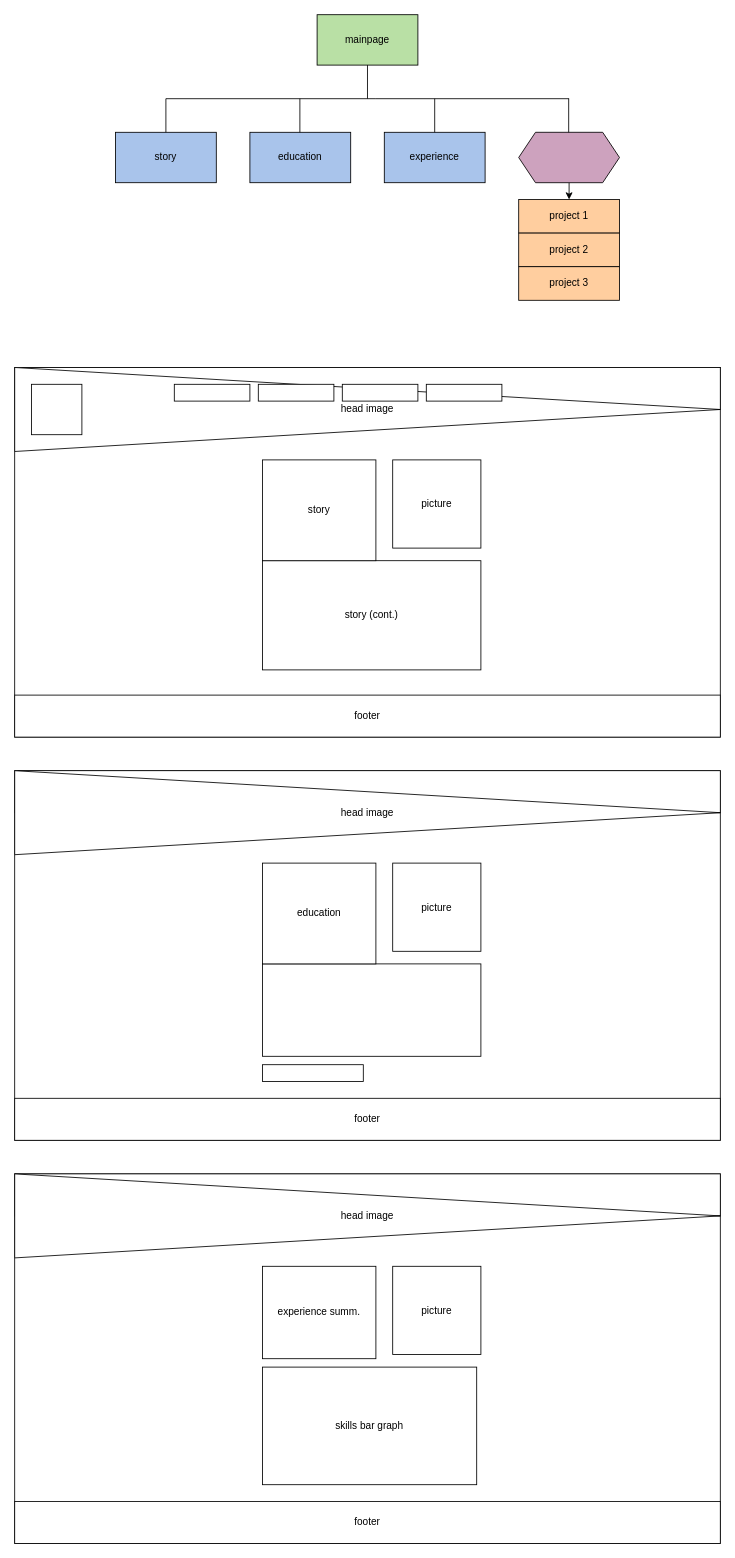
Image size: 735x1558. Some labels were removed from this diagram. The shapes that lost their labels are listed below. From the top down, each one's centre as x and y in pixels, then its label:
point 569,157: favorite projects
point 56,409: logo
point 371,1009: education (cont.)
point 312,1073: bottega link
